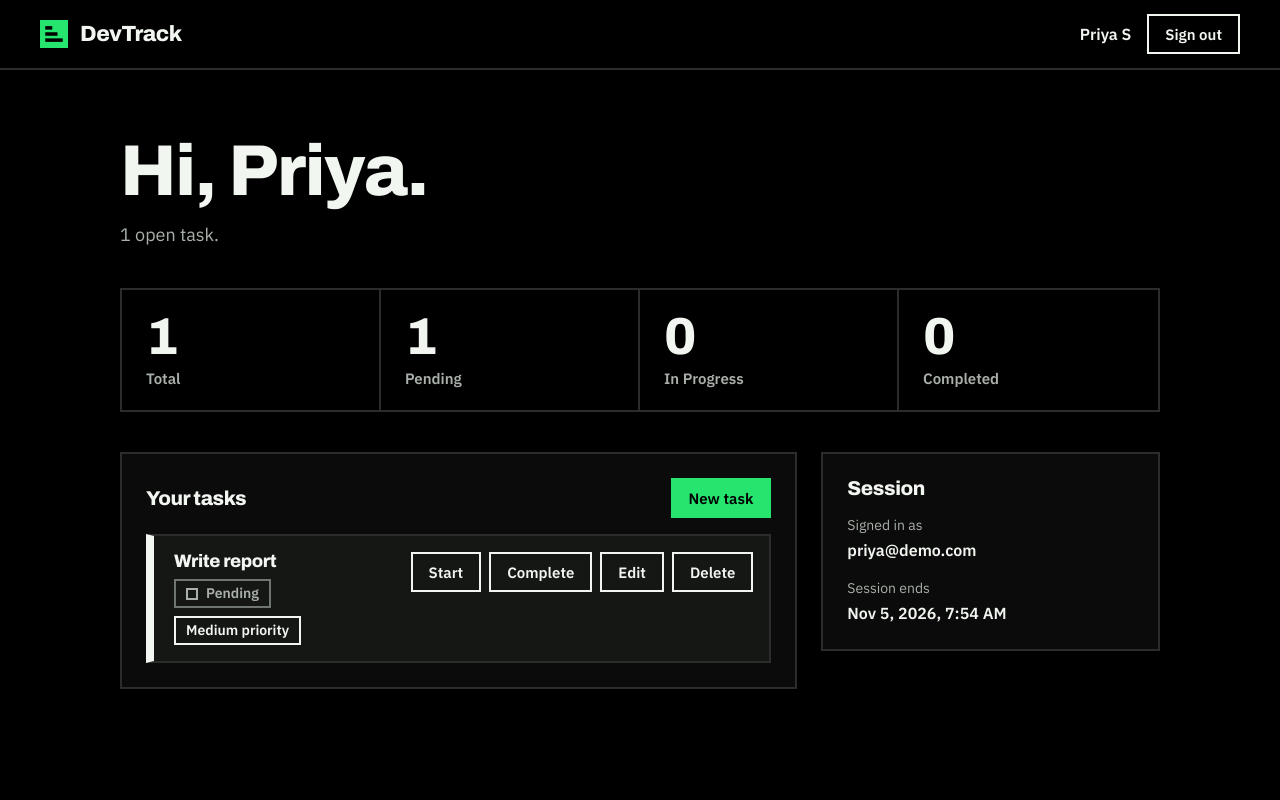
Test: Dashboard: quick status changes (FR-08) › keeps the old status and shows an error when the save fails
The image size is (1280, 800).
Expected: the heading "Hi, Priya." is shown, [120,132,428,210]
Click the button with aria-label "Mark Write report as Completed": (541, 572) [489,552,592,592]
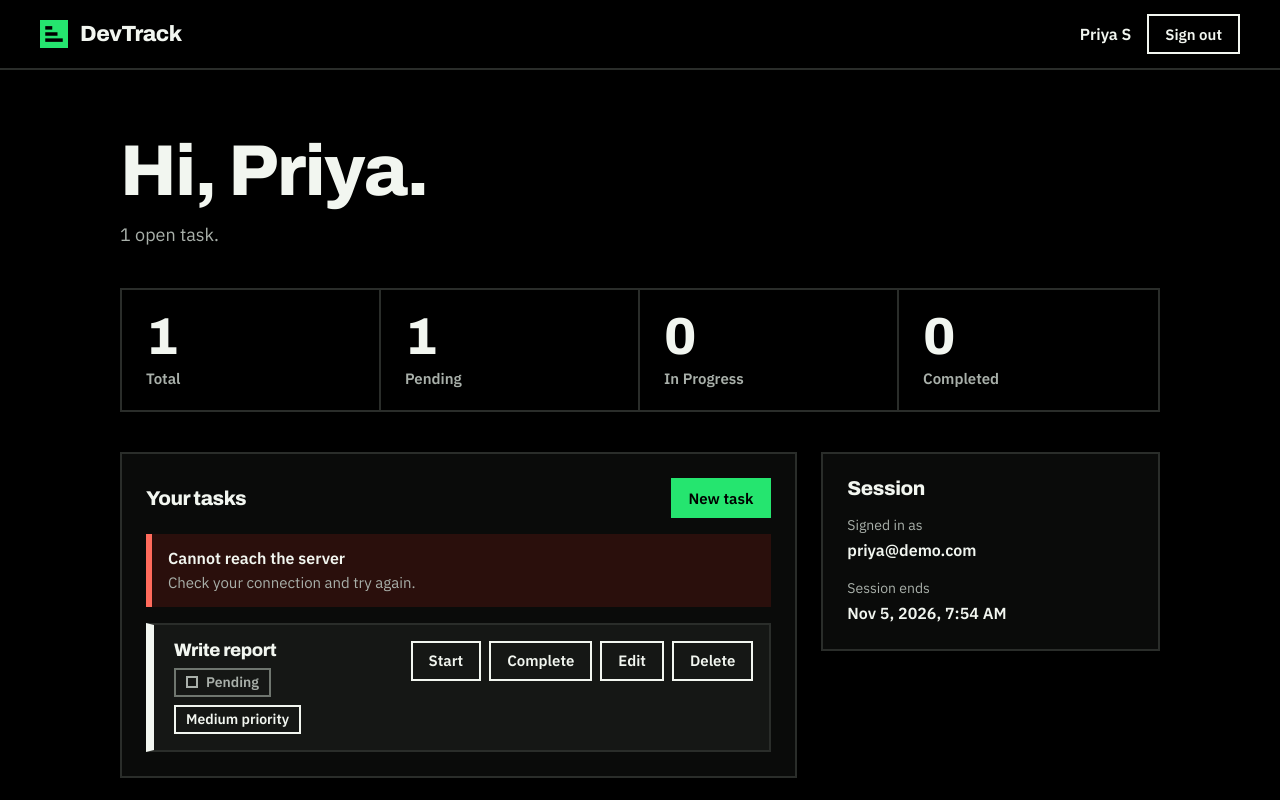
Expected: the text "Pending" is shown, [174,668,271,697]
Now the message shows "Cannot reach the server", box [168,548,345,568]
